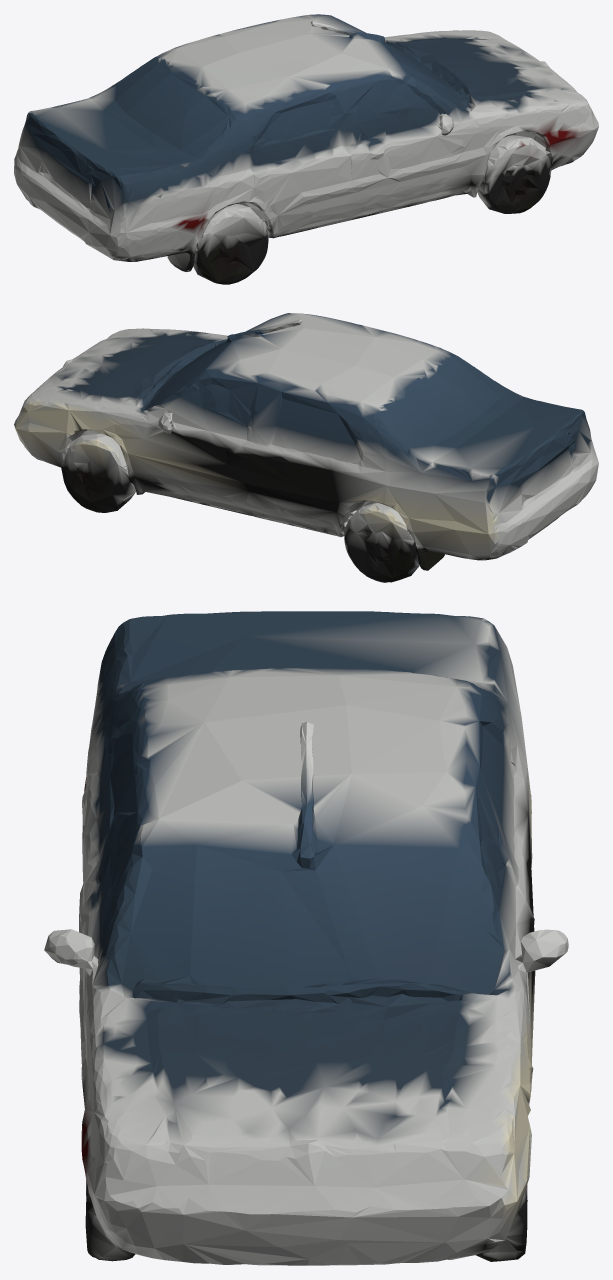
File: peugeot405_lod1.glb
3 views of the same model, one above another, from view 1: azimuth 30°, elevation 25°; view 2: azimuth 150°, elevation 25°; view 3: azimuth 270°, elevation 25° (orthographic). The views are drawn at different scales.
Parts seen in each view (by area): view 1: world; view 2: world; view 3: world.
Boxes of the visible parts, box(x1,y1,x2,y2) form: world: box(14, 14, 598, 284); world: box(14, 313, 598, 582); world: box(44, 611, 568, 1265).
Bounding box in the file's own units: 445 × 163 × 200.
